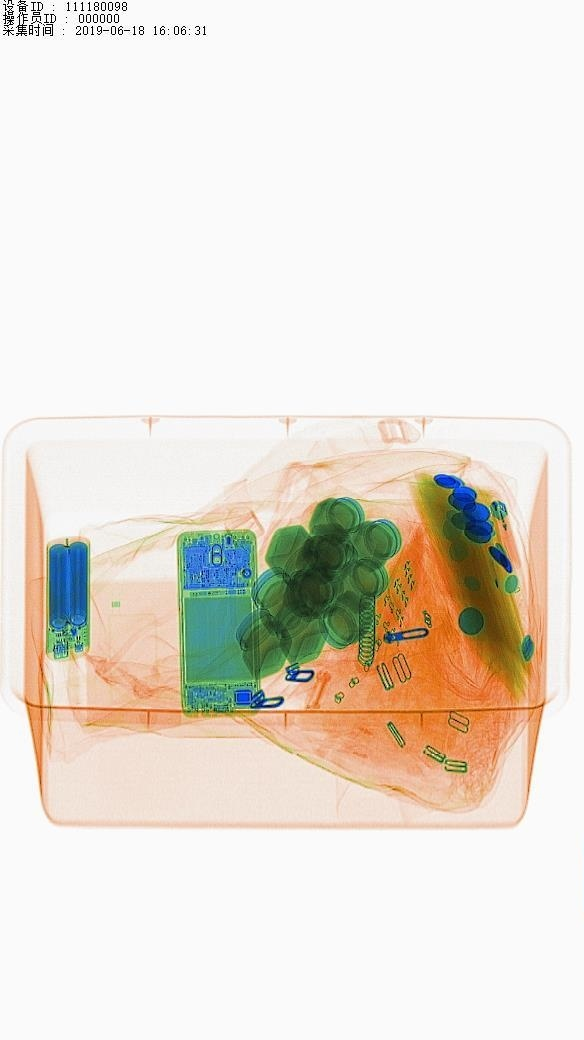NonmetallicFire: (491, 493, 540, 579)
